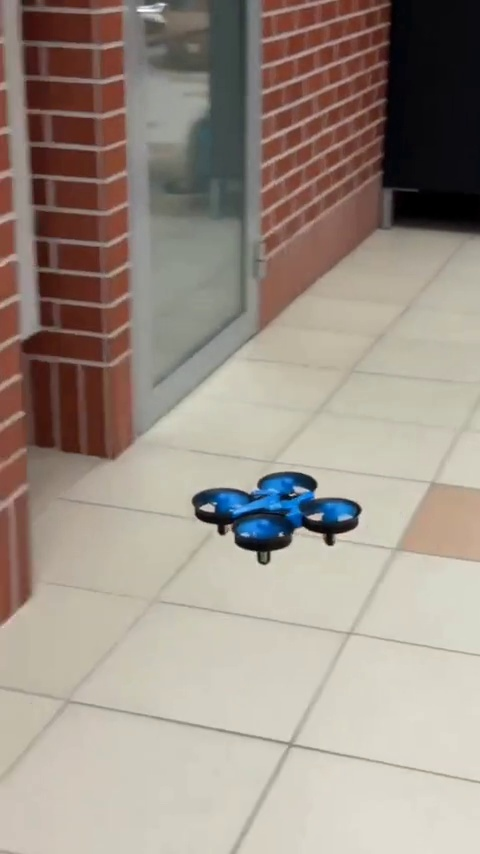drone: (185, 470, 366, 563)
